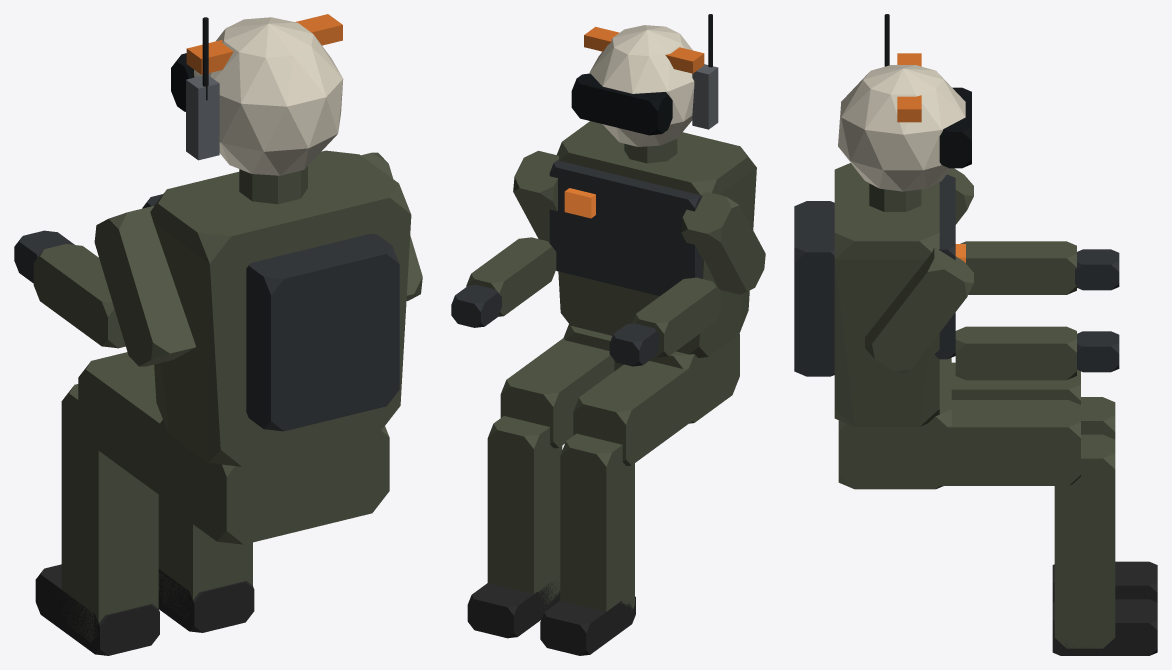
File: hum_crew_figure.glb
3 renders of one model, left to right at view 1: azimuth 30°, elevation 25°; view 2: azimuth 150°, elevation 25°; view 3: azimuth 270°, elevation 25°, orthographic. The views are drawn at different scales.
Parts seen in each view (by area): view 1: body, head, arm_l, arm_r; view 2: body, head, arm_l, arm_r; view 3: body, arm_r, head, arm_l.
Boxes of the visible parts, x1,y1,x2,y2 form: body: (35,150,411,655); head: (171,14,343,175); arm_l: (14,206,195,366); arm_r: (361,152,422,300); body: (467,121,756,655); head: (571,14,718,146); arm_l: (609,191,765,366); arm_r: (451,150,558,327); body: (794,163,1157,655); arm_r: (865,248,1119,380); head: (838,14,971,191); arm_l: (947,168,1119,294).
Bounding box in the file's own units: 0.63 × 1.59 × 0.9.
Materials: 2 (2 with a texture image).
